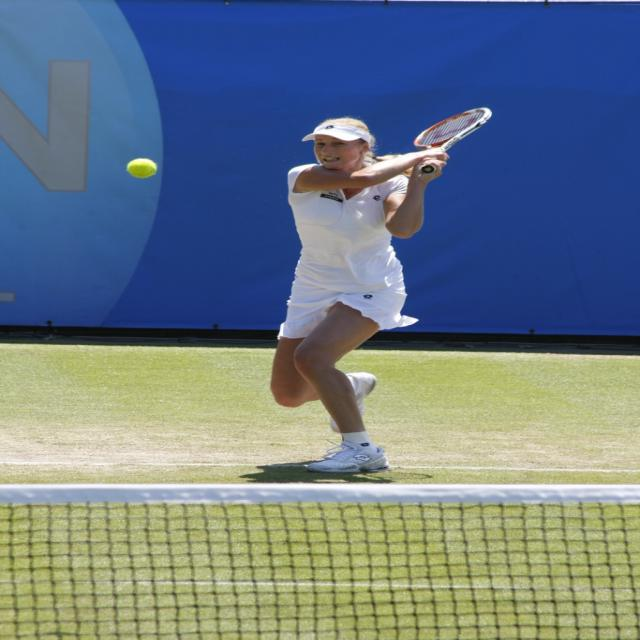Tennis-Ball: (118, 151, 168, 185)
